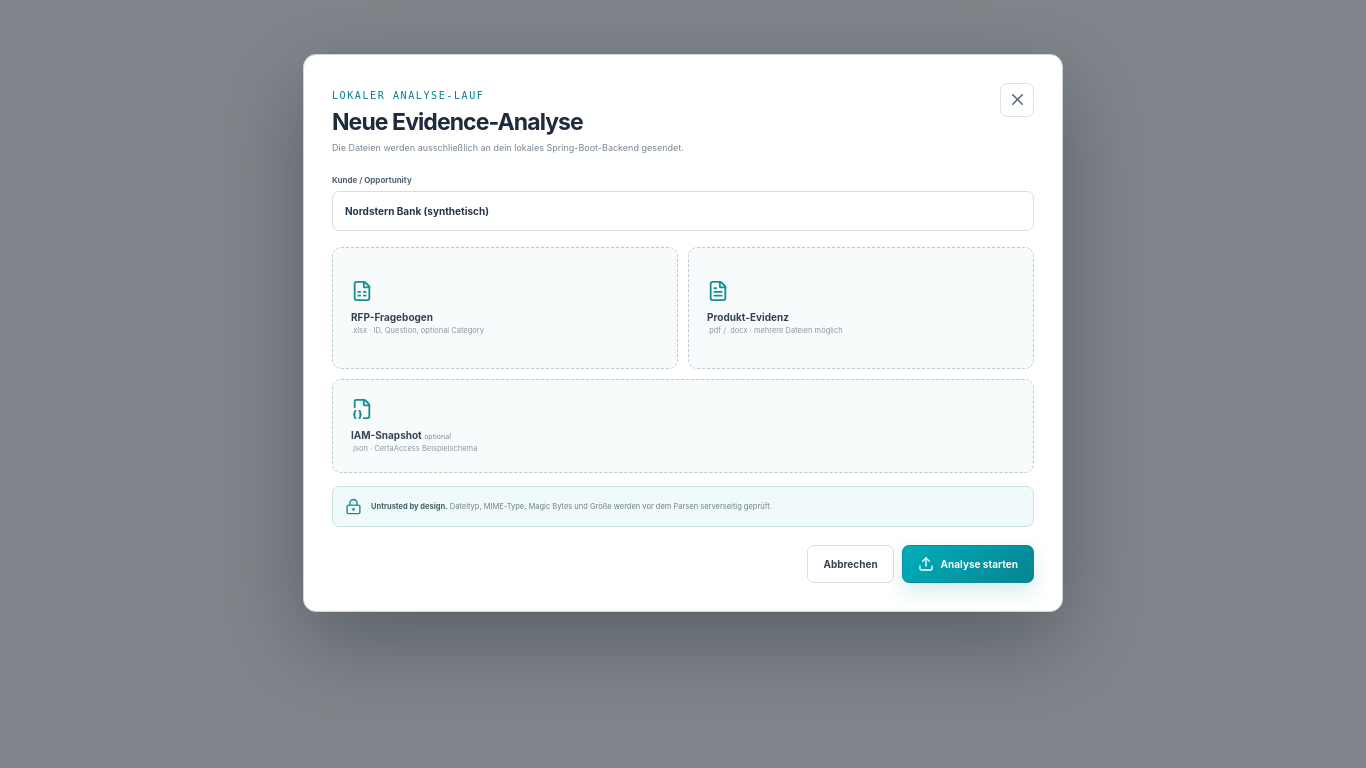
Test case: ImportAnalysis › fordert RFP und Evidenz an, bevor ein Lauf gestartet wird
Click the button "Analyse starten" at [968, 564], box x1=902 y1=545 x2=1034 y2=583
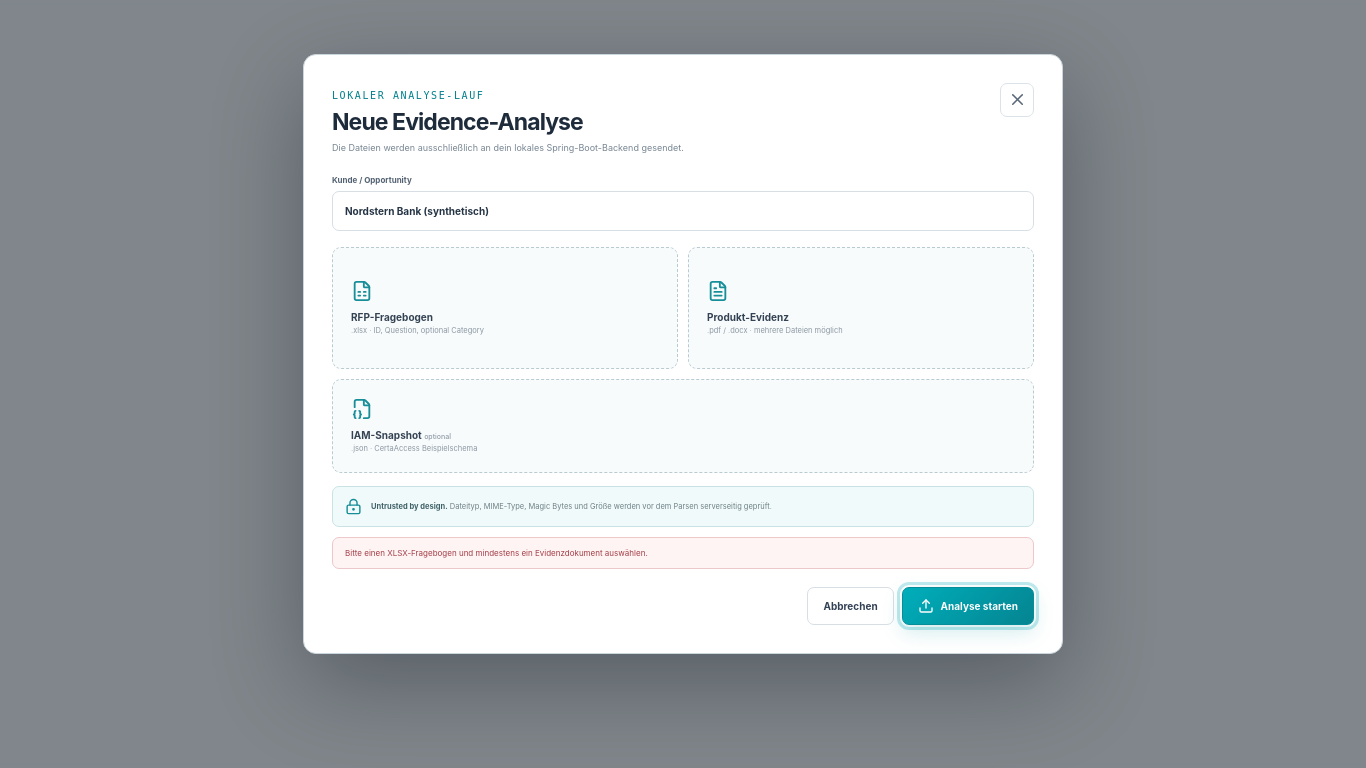
Check: the message shows "XLSX-Fragebogen", box x1=345 y1=548 x2=648 y2=558
